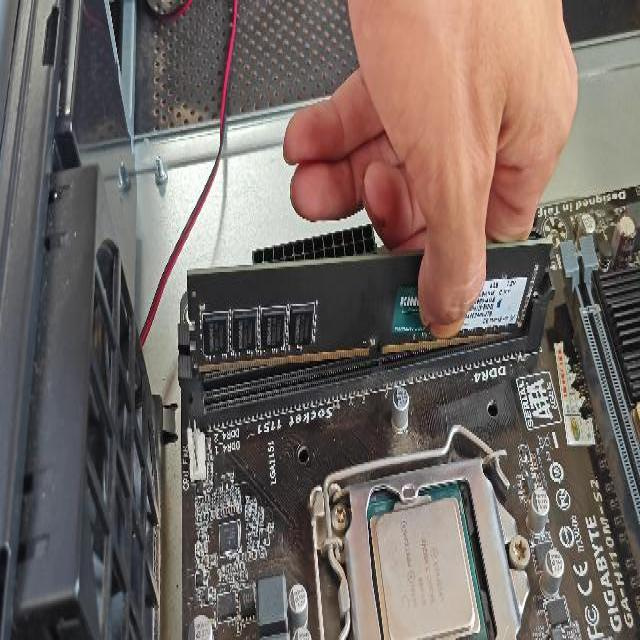CPU: (370, 489, 482, 640)
Mainboard: (182, 179, 640, 640)
RAM: (188, 238, 550, 380)
